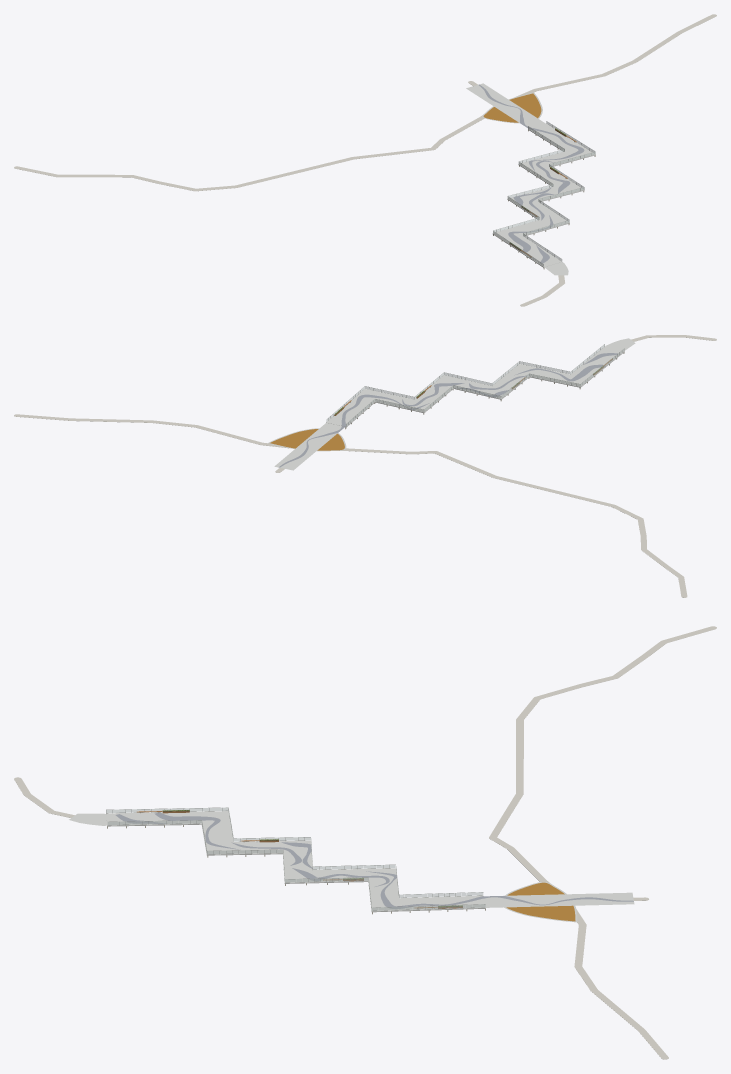
File: SEU_building_patch_v17.glb
3 views of the same model, one above another, from view 1: azimuth 30°, elevation 25°; view 2: azimuth 150°, elevation 25°; view 3: azimuth 270°, elevation 25° (orthographic). The views are drawn at different scales.
Parts seen in each view (by area): view 1: SEU_BRIDGE_630436309_DECK_CONTINUOUS__V17, SEU_R_OSMWAY_1056927543__V17, SEU_JQB_V17_NORTH_APPROACH_APPROX, SEU_JQB_V17_BANK_PLANTING_OCHRE_APPROX; view 2: SEU_BRIDGE_630436309_DECK_CONTINUOUS__V17, SEU_R_OSMWAY_1056927543__V17, SEU_JQB_V17_NORTH_APPROACH_APPROX, SEU_JQB_V17_BANK_PLANTING_OCHRE_APPROX; view 3: SEU_BRIDGE_630436309_DECK_CONTINUOUS__V17, SEU_R_OSMWAY_1056927543__V17, SEU_JQB_V17_NORTH_APPROACH_APPROX, SEU_JQB_V17_BANK_PLANTING_OCHRE_APPROX.
Boxes of the visible parts, left/top/right/bottom form: SEU_BRIDGE_630436309_DECK_CONTINUOUS__V17: left=492, top=124, right=595, bottom=267; SEU_R_OSMWAY_1056927543__V17: left=14, top=14, right=716, bottom=191; SEU_JQB_V17_NORTH_APPROACH_APPROX: left=466, top=83, right=545, bottom=128; SEU_JQB_V17_BANK_PLANTING_OCHRE_APPROX: left=483, top=93, right=541, bottom=122; SEU_BRIDGE_630436309_DECK_CONTINUOUS__V17: left=326, top=347, right=624, bottom=427; SEU_R_OSMWAY_1056927543__V17: left=14, top=414, right=687, bottom=597; SEU_JQB_V17_NORTH_APPROACH_APPROX: left=274, top=423, right=344, bottom=470; SEU_JQB_V17_BANK_PLANTING_OCHRE_APPROX: left=270, top=429, right=344, bottom=450; SEU_BRIDGE_630436309_DECK_CONTINUOUS__V17: left=106, top=811, right=485, bottom=912; SEU_R_OSMWAY_1056927543__V17: left=489, top=626, right=716, bottom=1059; SEU_JQB_V17_NORTH_APPROACH_APPROX: left=483, top=892, right=634, bottom=907; SEU_JQB_V17_BANK_PLANTING_OCHRE_APPROX: left=506, top=882, right=575, bottom=921.
Size of the model in its own units: 263 by 1.93 by 180.
